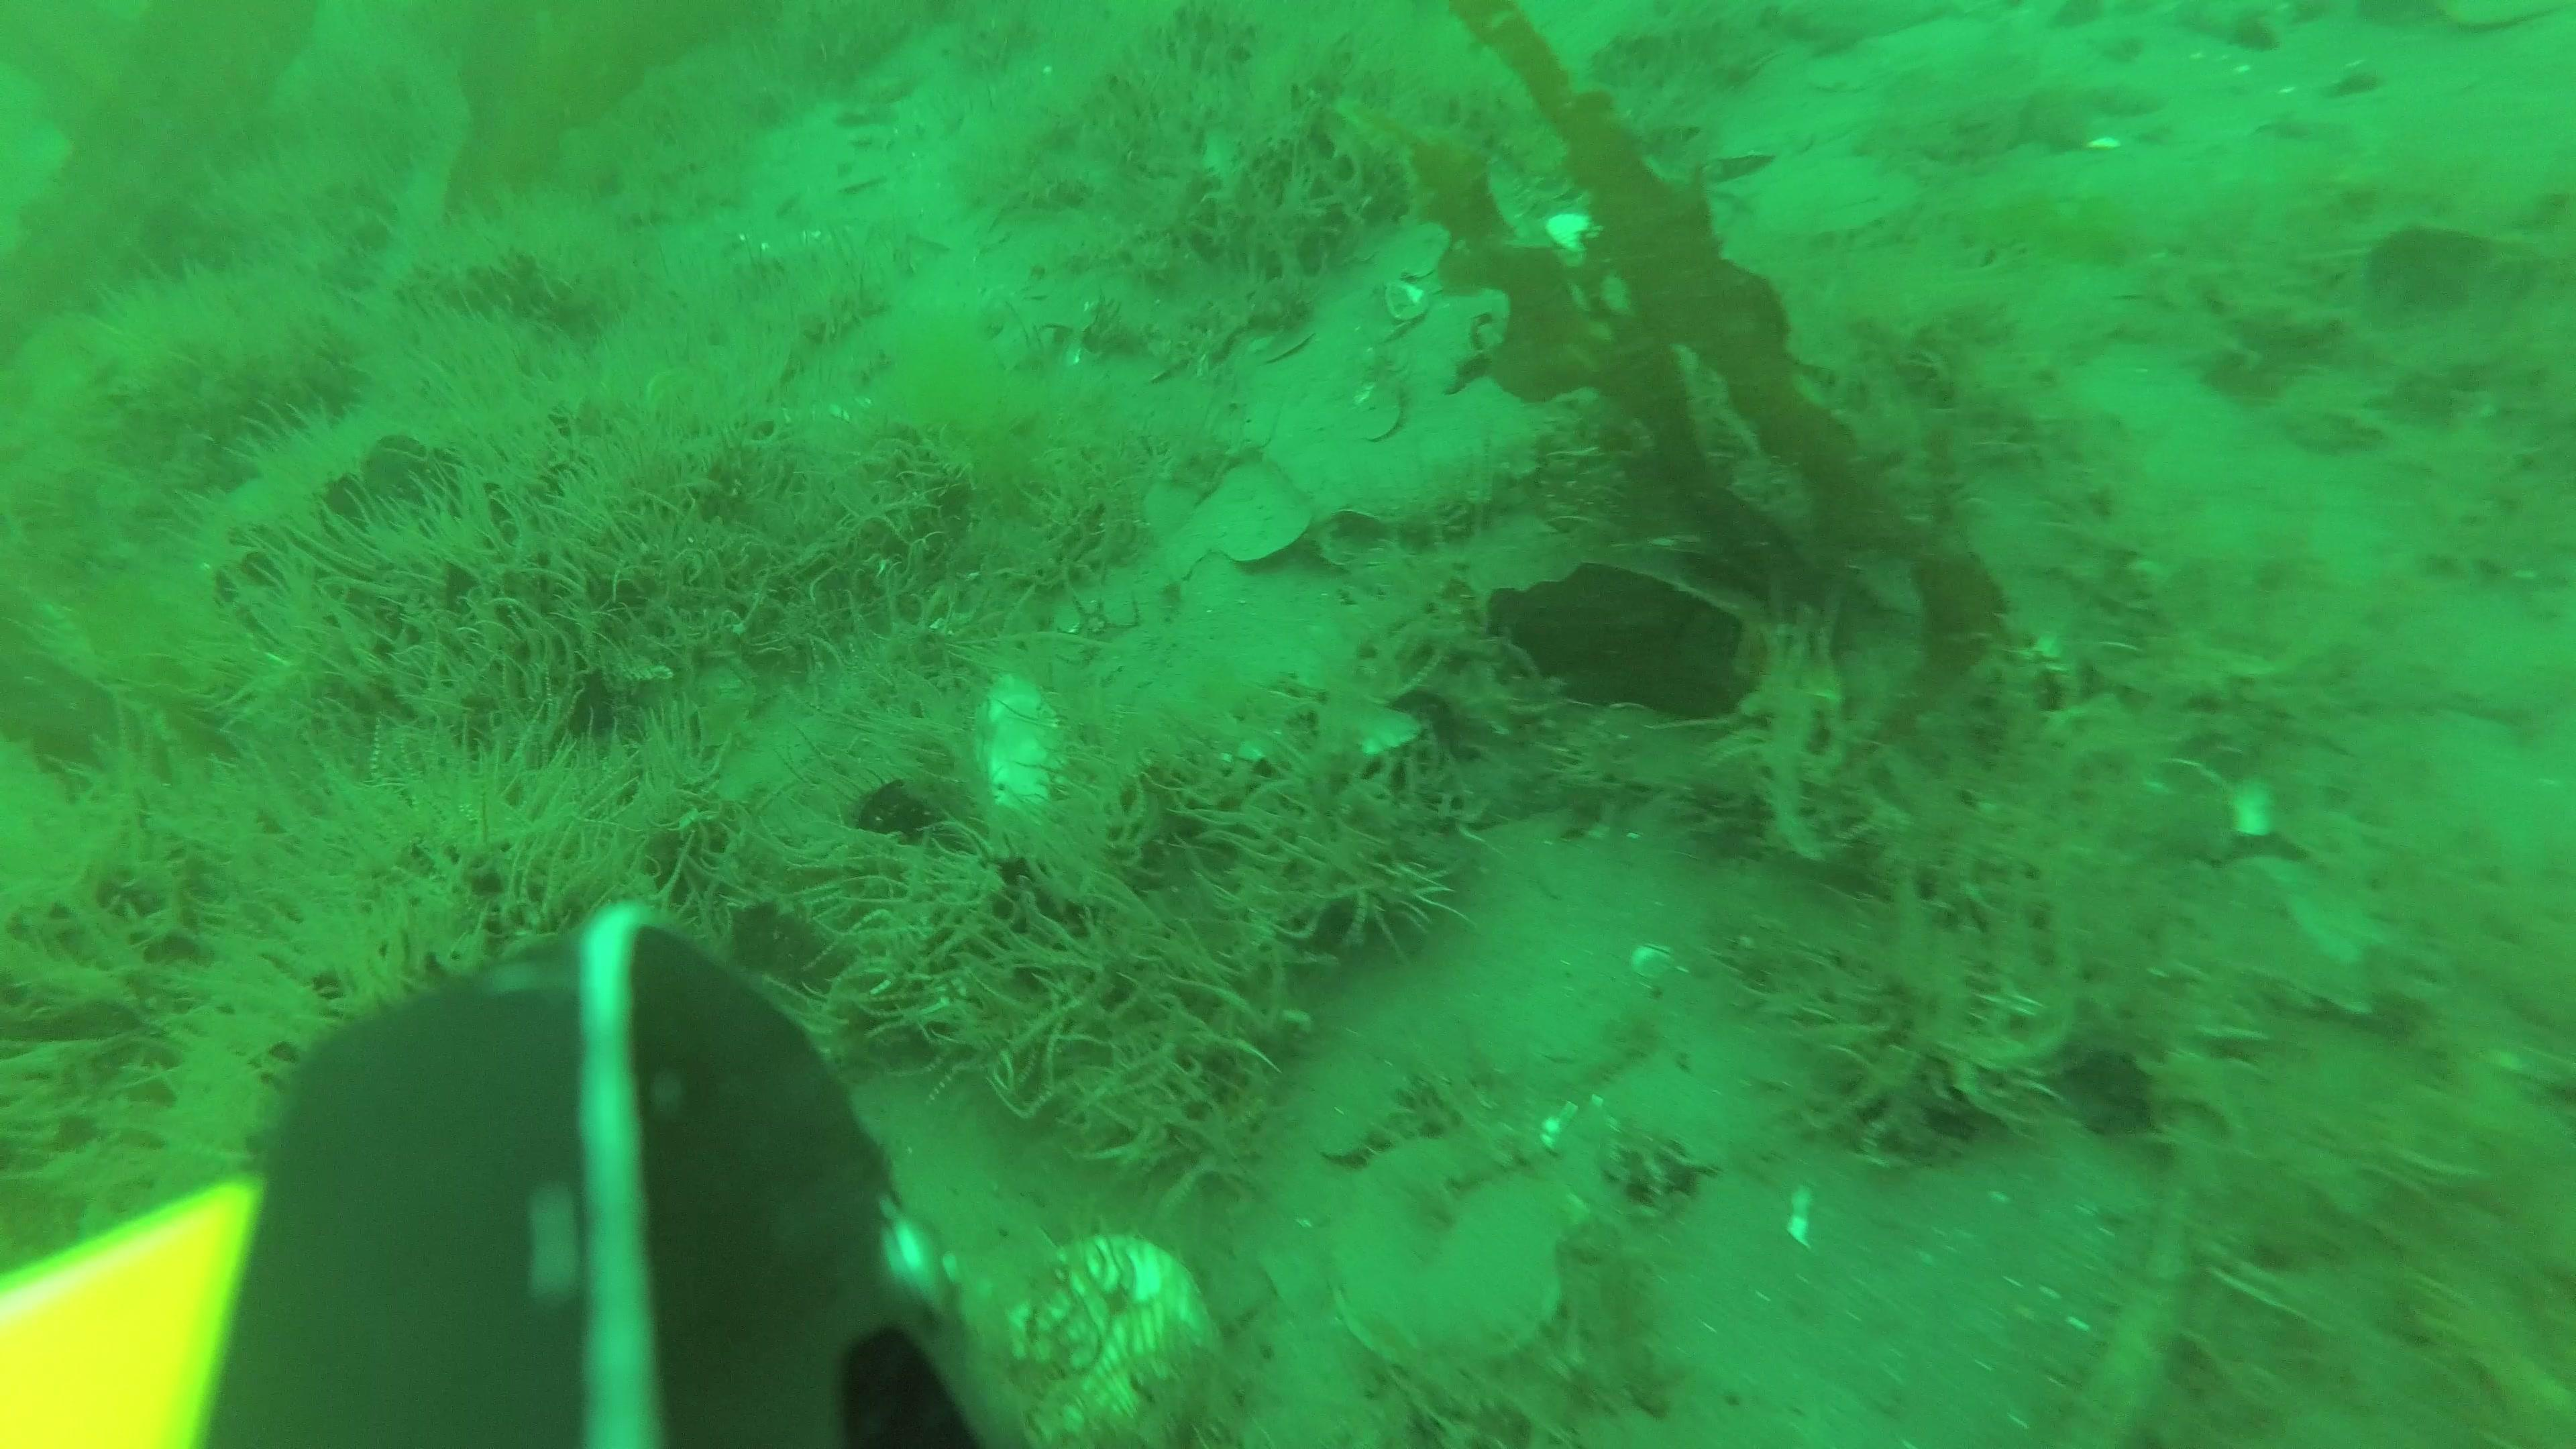scallop: (1313, 1131, 1580, 1361), (1019, 1249, 1208, 1449), (978, 679, 1069, 828)
